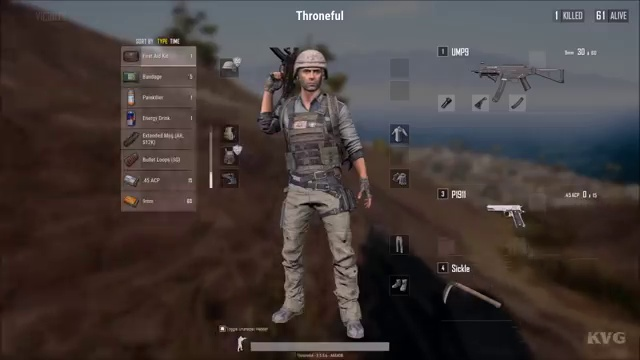Player: (257, 42, 379, 323)
